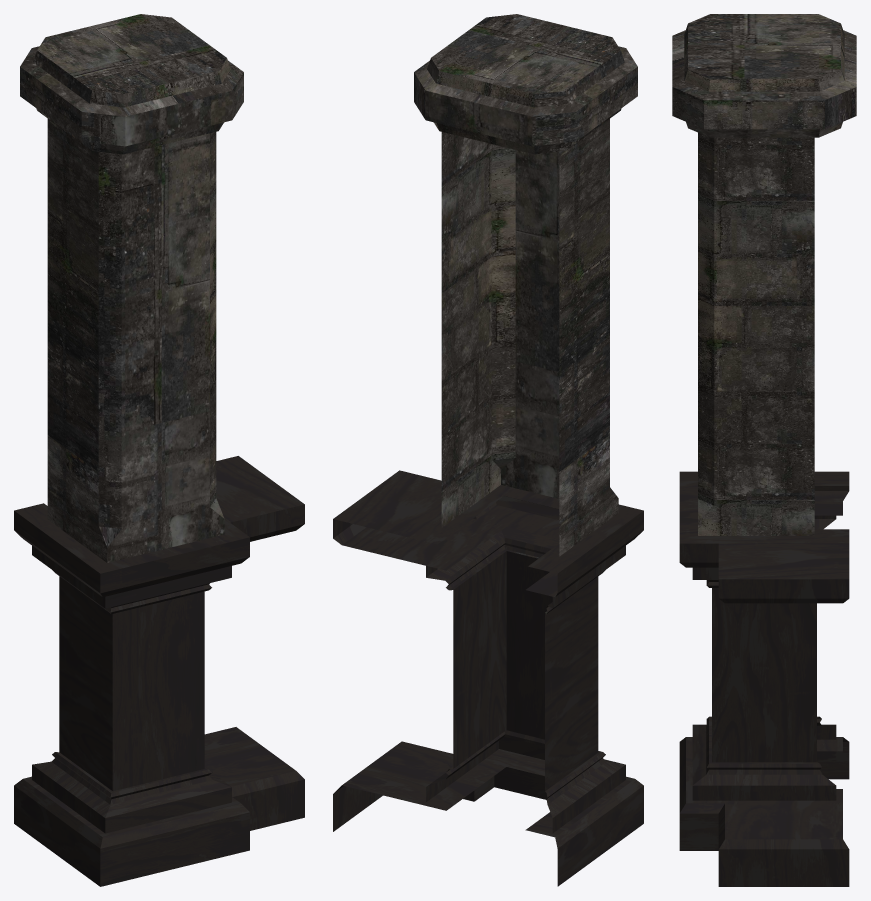
The model's file is right_column.obj.
3 views of the same model, side by side, from view 1: azimuth 30°, elevation 25°; view 2: azimuth 150°, elevation 25°; view 3: azimuth 270°, elevation 25° (orthographic).
Visible parts, largest first — view 1: [Imported]_r_column_r_column; view 2: [Imported]_r_column_r_column; view 3: [Imported]_r_column_r_column.
Boxes of the visible parts, left/top/right/bottom form: [Imported]_r_column_r_column: left=14, top=14, right=304, bottom=886; [Imported]_r_column_r_column: left=333, top=14, right=643, bottom=886; [Imported]_r_column_r_column: left=672, top=14, right=856, bottom=886.
Bounding box in the file's own units: 3.95 × 12.8 × 2.78.
